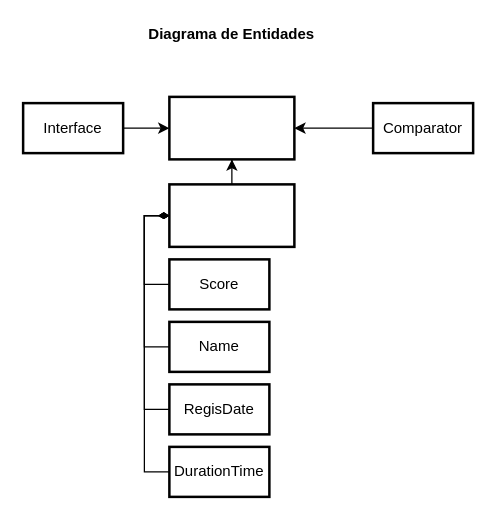
Image size: 495x519. Some labels were removed from this diagram. The centre of each missing label's shape, as x and y in pixels:
"Register" belongs at [231,215].
"VideoGame" belongs at [231,127].
